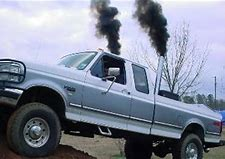smoke: (133, 1, 170, 56), (87, 1, 123, 55)
